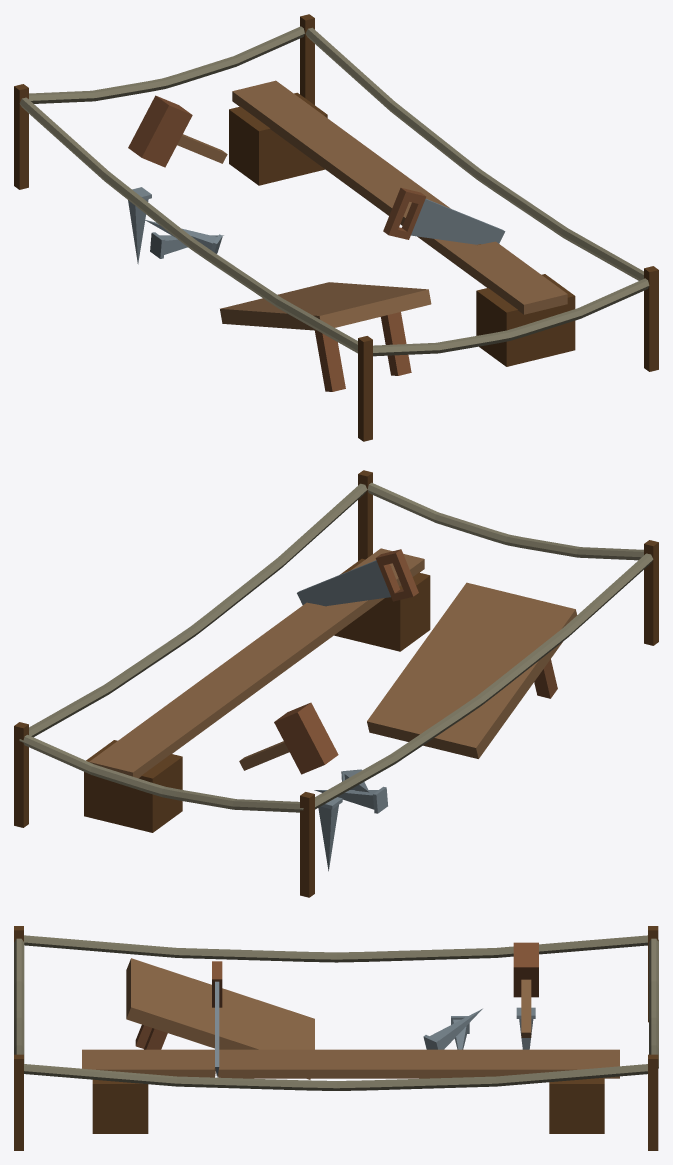
File: Buidling.fbx
3 views of the same model, one above another, from view 1: azimuth 30°, elevation 25°; view 2: azimuth 150°, elevation 25°; view 3: azimuth 270°, elevation 25° (orthographic). The views are drawn at different scales.
Visible parts, largest first — view 1: Cube.007, Cube.008, Cube.006; view 2: Cube.007, Cube.008, Cube.006; view 3: Cube.007, Cube.006, Cube.008.
Part boxes in pixels (x1=…): Cube.007: x1=14, y1=14, x2=658, y2=441; Cube.008: x1=383, y1=187, x2=505, y2=244; Cube.006: x1=128, y1=95, x2=227, y2=167; Cube.007: x1=14, y1=470, x2=658, y2=897; Cube.008: x1=297, y1=549, x2=418, y2=606; Cube.006: x1=239, y1=702, x2=338, y2=774; Cube.007: x1=14, y1=926, x2=658, y2=1150; Cube.006: x1=513, y1=942, x2=538, y2=1037; Cube.008: x1=212, y1=961, x2=222, y2=1077.
Bounding box in the file's own units: 620 × 350 × 1272.
